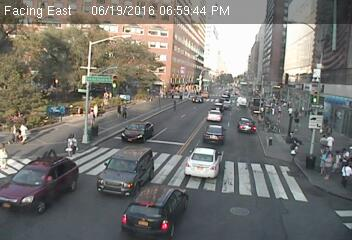neg: (267, 91, 285, 115), (140, 83, 154, 102), (266, 134, 278, 149), (254, 78, 266, 93), (171, 85, 177, 93)
pos: (320, 151, 341, 179), (62, 131, 80, 156), (14, 120, 32, 144), (337, 163, 351, 188), (285, 140, 301, 161), (121, 100, 134, 117), (325, 133, 337, 150), (339, 145, 351, 162), (317, 133, 329, 149), (113, 102, 123, 115), (293, 106, 301, 117), (288, 106, 295, 115)
